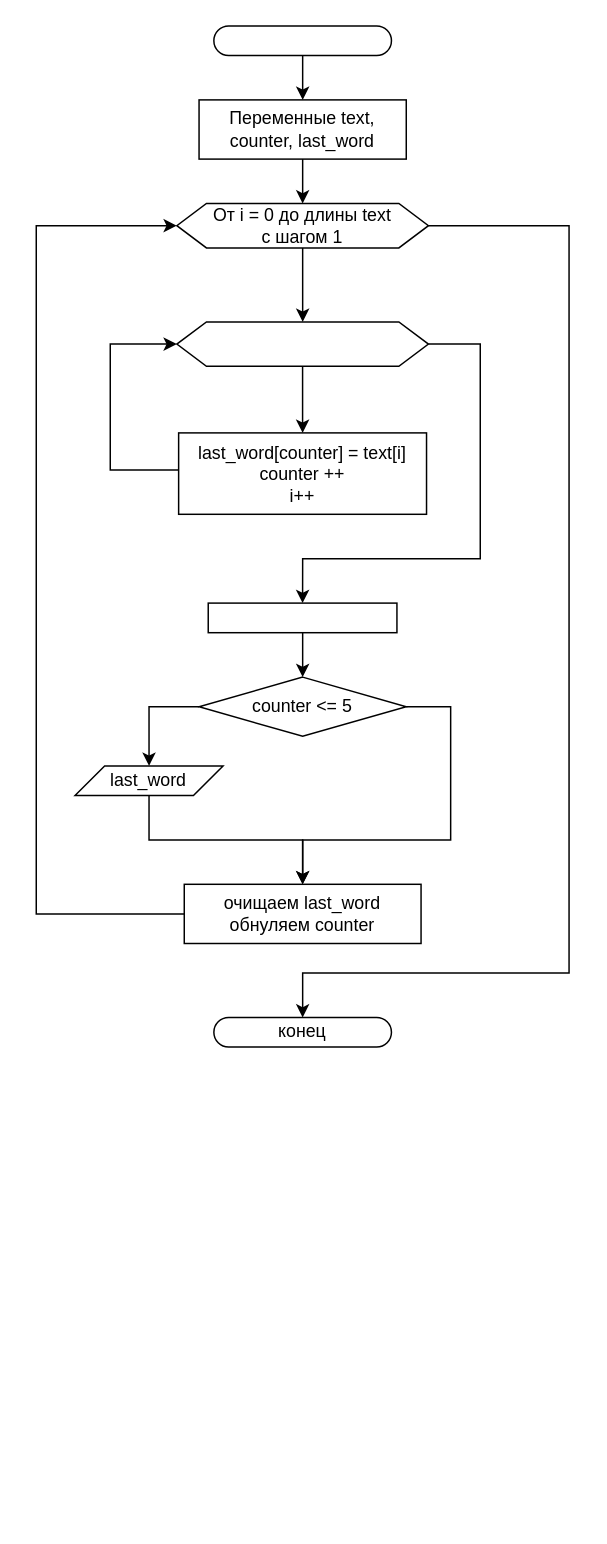
The diagram is 607 pixels wide and 1544 high, and some of its shapes have lost their labels. Here are the shapes that lost their labels. From the top down, the centre of each, then its label:
(x=301, y=40): начало
(x=301, y=343): пока text[i] != пробелу или концу строки
(x=302, y=617): Закрываем строку \0
